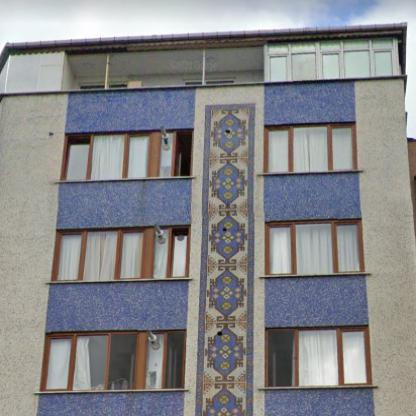window: (43, 332, 184, 390), (53, 228, 188, 281), (63, 132, 192, 179), (266, 327, 368, 386), (268, 38, 398, 81), (268, 223, 360, 274), (266, 125, 356, 172), (0, 52, 64, 95)
